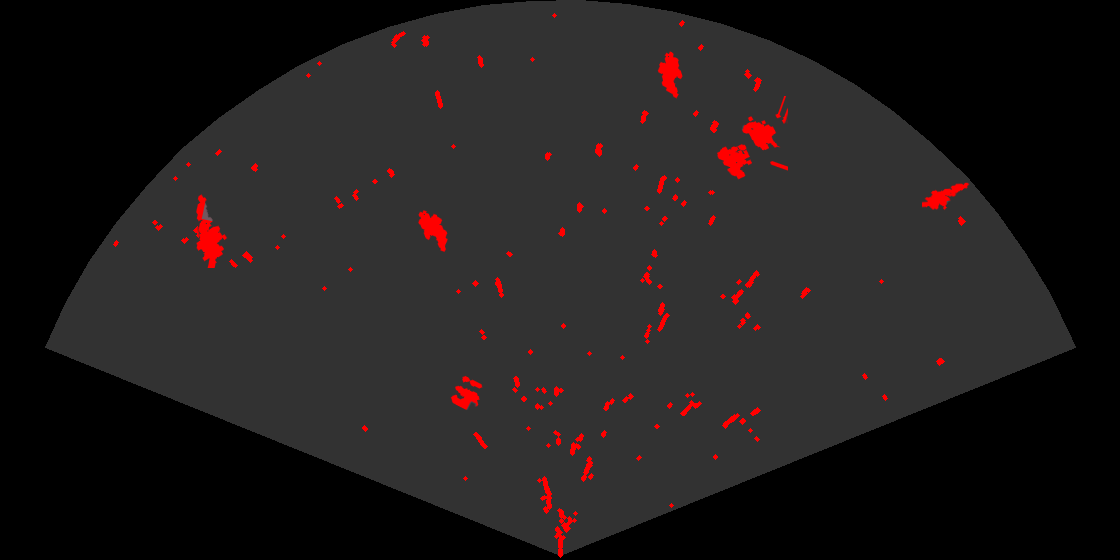AUV: (417, 209, 449, 253), (656, 50, 684, 100)
ball: (449, 374, 484, 411)
cage: (716, 96, 788, 181)
frogman: (195, 193, 229, 268), (922, 181, 970, 212)
